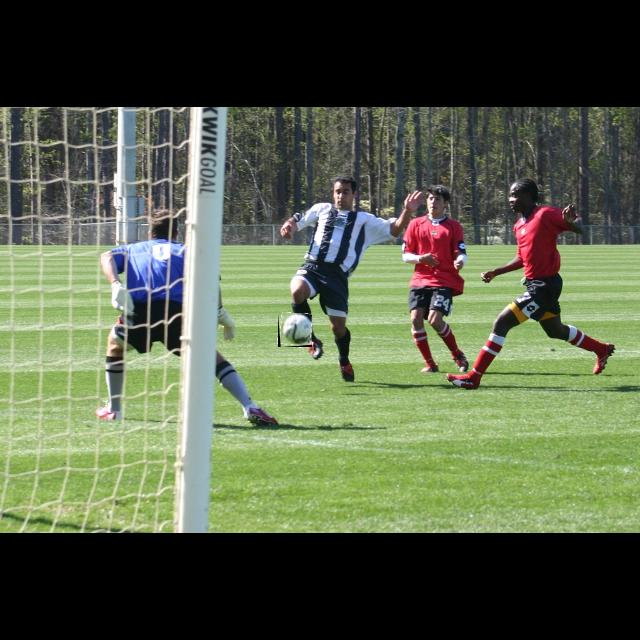Football: (278, 313, 312, 347)
